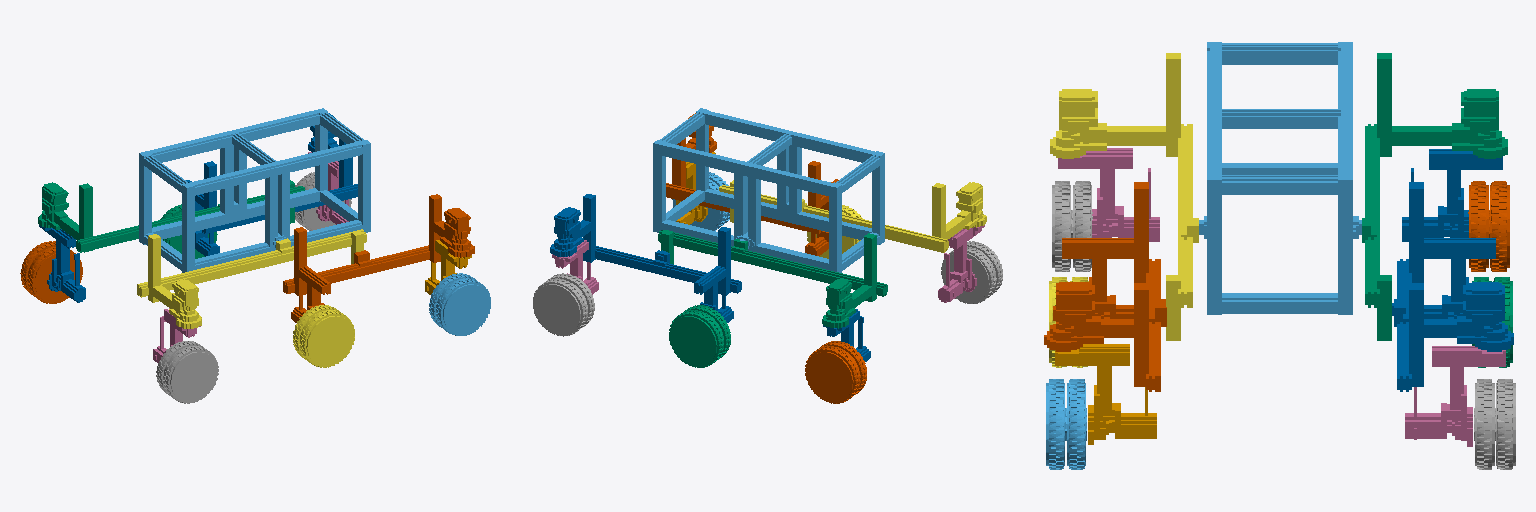
URDF robot description (roverv1):
<?xml version="1.0" ?>
<!-- =================================================================================== -->
<!-- |    This document was autogenerated by xacro from model.xacro                    | -->
<!-- |    EDITING THIS FILE BY HAND IS NOT RECOMMENDED                                 | -->
<!-- =================================================================================== -->
<robot name="roverv1" xmlns:xacro="http://www.ros.org/wiki/xacro">
  <gazebo>
    <plugin filename="libgazebo_ros_control.so" name="gazebo_ros_control">
      <robotNamespace>/roverv1</robotNamespace>
    </plugin>
  </gazebo>
  <!--plugin name="p3d_base_controller" filename="libgazebo_ros_p3d.so">
  <alwaysOn>true</alwaysOn>
  <updateRate>30.0</updateRate>
  <bodyName>base</bodyName>
  <topicName>odom</topicName>
  <gaussianNoise>0.01</gaussianNoise>
  <frameName>world</frameName>
  <xyzOffsets>0 0 0</xyzOffsets>
  <rpyOffsets>0 0 0</rpyOffsets-->
  <link name="body_footprint"/>
  <gazebo reference="body_footprint">
    <turnGravityOff>false</turnGravityOff>
  </gazebo>
  <!--joint name="floating" type="floating">
    <origin rpy="0 0 0" xyz="0 0 0.3"/>
    <parent link="world"/>
    <child link="anker"/>
  </joint-->
  <joint name="fixed" type="fixed">
    <origin rpy="0 0 0" xyz="0 0 0.3"/>
    <parent link="body_footprint"/>
    <child link="body"/>
  </joint>
  <link name="body">
    <inertial>
      <mass value="5"/>
      <origin rpy="0  0  0" xyz="0 0 0.125"/>
      <inertia ixx="0.02050030" ixy="0" ixz="0" iyy="0.05700340" iyz="0" izz="0.05769180"/>
    </inertial>
    <collision>
      <origin rpy="0  0  0" xyz="0 0 0"/>
      <geometry>
        <mesh filename="package://roverv1/meshes/base.STL" scale="1 1 1"/>
      </geometry>
    </collision>
    <visual>
      <origin rpy="0  0  0" xyz="0 0 0"/>
      <geometry>
        <mesh filename="package://roverv1/meshes/base.STL" scale="1 1 1"/>
      </geometry>
    </visual>
  </link>
  <link name="Right_Rocker">
    <inertial>
      <mass value="0.5"/>
      <origin rpy="0  0  0" xyz="-0.10 0.11 0"/>
      <inertia ixx="0.00335" ixy="0" ixz="0" iyy="0.0224" iyz="0" izz="0.02345"/>
    </inertial>
    <collision>
      <origin rpy="0  0  0" xyz="0 0 0"/>
      <geometry>
        <mesh filename="package://roverv1/meshes/LLArm.STL" scale="1 1 1"/>
      </geometry>
    </collision>
    <visual>
      <origin rpy="0  0  0" xyz="0 0 0"/>
      <geometry>
        <mesh filename="package://roverv1/meshes/LLArm.STL" scale="1 1 1"/>
      </geometry>
    </visual>
  </link>
  <joint name="Right_Rocker_joint" type="revolute">
    <parent link="body"/>
    <child link="Right_Rocker"/>
    <origin rpy="0 0 0" xyz="0 0.136 0.03"/>
    <axis xyz="0 1 0"/>
    <limit effort="10" lower="-0.7853" upper="0.7853" velocity="20"/>
    <dynamics damping="1" friction="1"/>
  </joint>
  <link name="Left_Rocker">
    <inertial>
      <mass value="0.5"/>
      <origin rpy="0  0  0" xyz="-0.10 -0.11 0"/>
      <inertia ixx="0.00335" ixy="0" ixz="0" iyy="0.0224" iyz="0" izz="0.02345"/>
    </inertial>
    <collision>
      <origin rpy="0  0  0" xyz="0 0 0"/>
      <geometry>
        <mesh filename="package://roverv1/meshes/RLArm.STL" scale="1 1 1"/>
      </geometry>
    </collision>
    <visual>
      <origin rpy="0  0  0" xyz="0 0 0"/>
      <geometry>
        <mesh filename="package://roverv1/meshes/RLArm.STL" scale="1 1 1"/>
      </geometry>
    </visual>
  </link>
  <joint name="Left_Rocker_joint" type="revolute">
    <parent link="body"/>
    <child link="Left_Rocker"/>
    <origin rpy="0 0 0" xyz="0 -0.136 0.03"/>
    <axis xyz="0 1 0"/>
    <limit effort="10" lower="-0.7853" upper="0.7853" velocity="20"/>
    <dynamics damping="1" friction="1"/>
  </joint>
  <link name="Right_Bogie">
    <inertial>
      <mass value="0.6"/>
      <origin rpy="0  0  0" xyz="0 0.1 0"/>
      <inertia ixx="0.00457331" ixy="0" ixz="0" iyy="0.02697040" iyz="0" izz="0.02375490"/>
    </inertial>
    <collision>
      <origin rpy="0  0  0" xyz="0 0 0"/>
      <geometry>
        <mesh filename="package://roverv1/meshes/LSArm.STL" scale="1 1 1"/>
      </geometry>
    </collision>
    <visual>
      <origin rpy="0  0  0" xyz="0 0 0"/>
      <geometry>
        <mesh filename="package://roverv1/meshes/LSArm.STL" scale="1 1 1"/>
      </geometry>
    </visual>
  </link>
  <joint name="Right_Bogie_joint" type="revolute">
    <parent link="Right_Rocker"/>
    <child link="Right_Bogie"/>
    <origin rpy="0 0 0" xyz="0.2 0.054 -0.06"/>
    <axis xyz="0 1 0"/>
    <limit effort="1" lower="-0.7853" upper="0.7853" velocity="20"/>
    <dynamics damping="1" friction="1"/>
  </joint>
  <link name="Left_Bogie">
    <inertial>
      <mass value="0.6"/>
      <origin rpy="0  0  0" xyz="0 -0.1 0"/>
      <inertia ixx="0.00457331" ixy="0" ixz="0" iyy="0.02697040" iyz="0" izz="0.02375490"/>
    </inertial>
    <collision>
      <origin rpy="0  0  0" xyz="0 0 0"/>
      <geometry>
        <mesh filename="package://roverv1/meshes/RSArm.STL" scale="1 1 1"/>
      </geometry>
    </collision>
    <visual>
      <origin rpy="0  0  0" xyz="0 0 0"/>
      <geometry>
        <mesh filename="package://roverv1/meshes/RSArm.STL" scale="1 1 1"/>
      </geometry>
    </visual>
  </link>
  <joint name="Left_Bogie_joint" type="revolute">
    <parent link="Left_Rocker"/>
    <child link="Left_Bogie"/>
    <origin rpy="0 0 0" xyz="0.2 -0.054 -0.06"/>
    <axis xyz="0 1 0"/>
    <limit effort="1" lower="-0.7853" upper="0.7853" velocity="20"/>
    <dynamics damping="1" friction="1"/>
  </joint>
  <link name="Servo4">
    <inertial>
      <mass value="0.4"/>
      <origin rpy="0  0  0" xyz="0 -0.07 -0.08"/>
      <inertia ixx="0.00160383" ixy="0" ixz="0" iyy="0.00114480" iyz="0" izz="0.00053229"/>
    </inertial>
    <collision>
      <origin rpy="0  0  0" xyz="0 0 0"/>
      <geometry>
        <mesh filename="package://roverv1/meshes/StWh1.STL" scale="1 1 1"/>
      </geometry>
    </collision>
    <visual>
      <origin rpy="0  0  0" xyz="0 0 0"/>
      <geometry>
        <mesh filename="package://roverv1/meshes/StWh1.STL" scale="1 1 1"/>
      </geometry>
    </visual>
  </link>
  <joint name="Servo4_joint" type="revolute">
    <parent link="Right_Bogie"/>
    <child link="Servo4"/>
    <origin rpy="0 0 0" xyz="0.2 0.165 0.03"/>
    <axis xyz="0 0 1"/>
    <limit effort="15" lower="-1.5708" upper="1.5708" velocity="0.2"/>
    <dynamics damping="1" friction="5"/>
  </joint>
  <link name="Wheel6">
    <inertial>
      <mass value="0.4"/>
      <origin rpy="0  0  0" xyz="0 0.04 0"/>
      <inertia ixx="0.000696" ixy="0" ixz="0" iyy="0.001044" iyz="0" izz="0.000696"/>
    </inertial>
    <collision>
      <origin rpy="0  0  0" xyz="0 0 0"/>
      <geometry>
        <mesh filename="package://roverv1/meshes/Wheel.STL" scale="1 1 1"/>
      </geometry>
    </collision>
    <visual>
      <origin rpy="0  0  0" xyz="0 0 0"/>
      <geometry>
        <mesh filename="package://roverv1/meshes/Wheel.STL" scale="1 1 1"/>
      </geometry>
    </visual>
  </link>
  <joint name="Motor6_joint" type="continuous">
    <parent link="Servo4"/>
    <child link="Wheel6"/>
    <origin rpy="0 0 0" xyz="0 -0.03 -0.142"/>
    <axis xyz="0 1 0"/>
    <limit effort="30" velocity="3"/>
    <dynamics damping="1" friction="5"/>
  </joint>
  <link name="Servo3">
    <inertial>
      <mass value="0.4"/>
      <origin rpy="0  0  0" xyz="0 -0.07 -0.08"/>
      <inertia ixx="0.00160383" ixy="0" ixz="0" iyy="0.00114480" iyz="0" izz="0.00053229"/>
    </inertial>
    <collision>
      <origin rpy="0  0  0" xyz="0 0 0"/>
      <geometry>
        <mesh filename="package://roverv1/meshes/StWh1.STL" scale="1 1 1"/>
      </geometry>
    </collision>
    <visual>
      <origin rpy="0  0  0" xyz="0 0 0"/>
      <geometry>
        <mesh filename="package://roverv1/meshes/StWh1.STL" scale="1 1 1"/>
      </geometry>
    </visual>
  </link>
  <joint name="Servo3_joint" type="revolute">
    <parent link="Left_Bogie"/>
    <child link="Servo3"/>
    <origin rpy="0 0 3.14159" xyz="0.2 -0.165 0.03"/>
    <axis xyz="0 0 1"/>
    <limit effort="15" lower="-1.5708" upper="1.5708" velocity="0.2"/>
    <dynamics damping="1" friction="5"/>
  </joint>
  <link name="Wheel5">
    <inertial>
      <mass value="0.4"/>
      <origin rpy="0  0  0" xyz="0 0.04 0"/>
      <inertia ixx="0.000696" ixy="0" ixz="0" iyy="0.001044" iyz="0" izz="0.000696"/>
    </inertial>
    <collision>
      <origin rpy="0  0  0" xyz="0 0 0"/>
      <geometry>
        <mesh filename="package://roverv1/meshes/Wheel.STL" scale="1 1 1"/>
      </geometry>
    </collision>
    <visual>
      <origin rpy="0  0  0" xyz="0 0 0"/>
      <geometry>
        <mesh filename="package://roverv1/meshes/Wheel.STL" scale="1 1 1"/>
      </geometry>
    </visual>
  </link>
  <joint name="Motor5_joint" type="continuous">
    <parent link="Servo3"/>
    <child link="Wheel5"/>
    <origin rpy="0 0 0" xyz="0 -0.03 -0.142"/>
    <axis xyz="0 1 0"/>
    <limit effort="30" velocity="3"/>
    <dynamics damping="1" friction="5"/>
  </joint>
  <link name="Wheel4">
    <inertial>
      <mass value="0.4"/>
      <origin rpy="0  0  0" xyz="0 0.04 0"/>
      <inertia ixx="0.000696" ixy="0" ixz="0" iyy="0.001044" iyz="0" izz="0.000696"/>
    </inertial>
    <collision>
      <origin rpy="0  0  0" xyz="0 0 0"/>
      <geometry>
        <mesh filename="package://roverv1/meshes/Wheel.STL" scale="1 1 1"/>
      </geometry>
    </collision>
    <visual>
      <origin rpy="0  0  0" xyz="0 0 0"/>
      <geometry>
        <mesh filename="package://roverv1/meshes/Wheel.STL" scale="1 1 1"/>
      </geometry>
    </visual>
  </link>
  <joint name="Motor4_joint" type="continuous">
    <parent link="Right_Bogie"/>
    <child link="Wheel4"/>
    <origin rpy="0 0 0" xyz="-0.200 0.130 -0.110"/>
    <axis xyz="0 1 0"/>
    <limit effort="30" velocity="3"/>
    <dynamics damping="1" friction="5"/>
  </joint>
  <link name="Wheel3">
    <inertial>
      <mass value="0.4"/>
      <origin rpy="0  0  0" xyz="0 0.04 0"/>
      <inertia ixx="0.000696" ixy="0" ixz="0" iyy="0.001044" iyz="0" izz="0.000696"/>
    </inertial>
    <collision>
      <origin rpy="0  0  0" xyz="0 0 0"/>
      <geometry>
        <mesh filename="package://roverv1/meshes/Wheel.STL" scale="1 1 1"/>
      </geometry>
    </collision>
    <visual>
      <origin rpy="0  0  0" xyz="0 0 0"/>
      <geometry>
        <mesh filename="package://roverv1/meshes/Wheel.STL" scale="1 1 1"/>
      </geometry>
    </visual>
  </link>
  <joint name="Motor3_joint" type="continuous">
    <parent link="Left_Bogie"/>
    <child link="Wheel3"/>
    <origin rpy="0 0 3.14159" xyz="-0.200 -0.130 -0.110"/>
    <axis xyz="0 1 0"/>
    <limit effort="30" velocity="3"/>
    <dynamics damping="1" friction="5"/>
  </joint>
  <link name="Servo2">
    <inertial>
      <mass value="0.4"/>
      <origin rpy="0  0  0" xyz="0 -0.07 -0.08"/>
      <inertia ixx="0.00160383" ixy="0" ixz="0" iyy="0.00114480" iyz="0" izz="0.00053229"/>
    </inertial>
    <collision>
      <origin rpy="0  0  0" xyz="0 0 0"/>
      <geometry>
        <mesh filename="package://roverv1/meshes/StWh1.STL" scale="1 1 1"/>
      </geometry>
    </collision>
    <visual>
      <origin rpy="0  0  0" xyz="0 0 0"/>
      <geometry>
        <mesh filename="package://roverv1/meshes/StWh1.STL" scale="1 1 1"/>
      </geometry>
    </visual>
  </link>
  <joint name="Servo2_joint" type="revolute">
    <parent link="Right_Rocker"/>
    <child link="Servo2"/>
    <origin rpy="0 0 0" xyz="-0.400 0.214 -0.04"/>
    <axis xyz="0 0 1"/>
    <limit effort="15" lower="-1.5708" upper="1.5708" velocity="0.2"/>
    <dynamics damping="1" friction="5"/>
  </joint>
  <link name="Wheel2">
    <inertial>
      <mass value="0.4"/>
      <origin rpy="0  0  0" xyz="0 0.04 0"/>
      <inertia ixx="0.000696" ixy="0" ixz="0" iyy="0.001044" iyz="0" izz="0.000696"/>
    </inertial>
    <collision>
      <origin rpy="0  0  0" xyz="0 0 0"/>
      <geometry>
        <mesh filename="package://roverv1/meshes/Wheel.STL" scale="1 1 1"/>
      </geometry>
    </collision>
    <visual>
      <origin rpy="0  0  0" xyz="0 0 0"/>
      <geometry>
        <mesh filename="package://roverv1/meshes/Wheel.STL" scale="1 1 1"/>
      </geometry>
    </visual>
  </link>
  <joint name="Motor2_joint" type="continuous">
    <parent link="Servo2"/>
    <child link="Wheel2"/>
    <origin rpy="0 0 0" xyz="0 -0.035 -0.140"/>
    <axis xyz="0 1 0"/>
    <limit effort="30" velocity="3"/>
    <dynamics damping="1" friction="5"/>
  </joint>
  <link name="Servo1">
    <inertial>
      <mass value="0.4"/>
      <origin rpy="0  0  0" xyz="0 -0.07 -0.08"/>
      <inertia ixx="0.00160383" ixy="0" ixz="0" iyy="0.00114480" iyz="0" izz="0.00053229"/>
    </inertial>
    <collision>
      <origin rpy="0  0  0" xyz="0 0 0"/>
      <geometry>
        <mesh filename="package://roverv1/meshes/StWh1.STL" scale="1 1 1"/>
      </geometry>
    </collision>
    <visual>
      <origin rpy="0  0  0" xyz="0 0 0"/>
      <geometry>
        <mesh filename="package://roverv1/meshes/StWh1.STL" scale="1 1 1"/>
      </geometry>
    </visual>
  </link>
  <joint name="Servo1_joint" type="revolute">
    <parent link="Left_Rocker"/>
    <child link="Servo1"/>
    <origin rpy="0 0 3.14159" xyz="-0.400 -0.214 -0.04"/>
    <axis xyz="0 0 1"/>
    <limit effort="15" lower="-1.5708" upper="1.5708" velocity="0.2"/>
    <dynamics damping="1" friction="5"/>
  </joint>
  <link name="Wheel1">
    <inertial>
      <mass value="0.4"/>
      <origin rpy="0  0  0" xyz="0 0.04 0"/>
      <inertia ixx="0.000696" ixy="0" ixz="0" iyy="0.001044" iyz="0" izz="0.000696"/>
    </inertial>
    <collision>
      <origin rpy="0  0  0" xyz="0 0 0"/>
      <geometry>
        <mesh filename="package://roverv1/meshes/Wheel.STL" scale="1 1 1"/>
      </geometry>
    </collision>
    <visual>
      <origin rpy="0  0  0" xyz="0 0 0"/>
      <geometry>
        <mesh filename="package://roverv1/meshes/Wheel.STL" scale="1 1 1"/>
      </geometry>
    </visual>
  </link>
  <joint name="Motor1_joint" type="continuous">
    <parent link="Servo1"/>
    <child link="Wheel1"/>
    <origin rpy="0 0 0" xyz="0 -0.035 -0.140"/>
    <axis xyz="0 1 0"/>
    <limit effort="30" velocity="3"/>
    <dynamics damping="1" friction="5"/>
  </joint>
  <transmission name="Right_Rocker_tran">
    <type>transmission_interface/SimpleTransmission</type>
    <joint name="Right_Rocker_joint">
      <hardwareInterface>hardware_interface/EffortJointInterface</hardwareInterface>
    </joint>
    <actuator name="Right_Rocker_motor">
      <hardwareInterface>EffortJointInterface</hardwareInterface>
      <mechanicalReduction>1</mechanicalReduction>
    </actuator>
  </transmission>
  <transmission name="Left_Rocker_tran">
    <type>transmission_interface/SimpleTransmission</type>
    <joint name="Left_Rocker_joint">
      <hardwareInterface>hardware_interface/EffortJointInterface</hardwareInterface>
    </joint>
    <actuator name="Left_Rocker_motor">
      <hardwareInterface>EffortJointInterface</hardwareInterface>
      <mechanicalReduction>1</mechanicalReduction>
    </actuator>
  </transmission>
  <transmission name="Right_Bogie_tran">
    <type>transmission_interface/SimpleTransmission</type>
    <joint name="Right_Bogie_joint">
      <hardwareInterface>hardware_interface/EffortJointInterface</hardwareInterface>
    </joint>
    <actuator name="Right_Bogie_motor">
      <hardwareInterface>EffortJointInterface</hardwareInterface>
      <mechanicalReduction>1</mechanicalReduction>
    </actuator>
  </transmission>
  <transmission name="Left_Bogie_tran">
    <type>transmission_interface/SimpleTransmission</type>
    <joint name="Left_Bogie_joint">
      <hardwareInterface>hardware_interface/EffortJointInterface</hardwareInterface>
    </joint>
    <actuator name="Left_Bogie_motor">
      <hardwareInterface>EffortJointInterface</hardwareInterface>
      <mechanicalReduction>1</mechanicalReduction>
    </actuator>
  </transmission>
  <transmission name="Servo4_tran">
    <type>transmission_interface/SimpleTransmission</type>
    <joint name="Servo4_joint">
      <hardwareInterface>hardware_interface/EffortJointInterface</hardwareInterface>
    </joint>
    <actuator name="Servo4_motor">
      <hardwareInterface>EffortJointInterface</hardwareInterface>
      <mechanicalReduction>1</mechanicalReduction>
    </actuator>
  </transmission>
  <transmission name="Servo3_tran">
    <type>transmission_interface/SimpleTransmission</type>
    <joint name="Servo3_joint">
      <hardwareInterface>hardware_interface/EffortJointInterface</hardwareInterface>
    </joint>
    <actuator name="Servo3_motor">
      <hardwareInterface>EffortJointInterface</hardwareInterface>
      <mechanicalReduction>1</mechanicalReduction>
    </actuator>
  </transmission>
  <transmission name="Servo2_tran">
    <type>transmission_interface/SimpleTransmission</type>
    <joint name="Servo2_joint">
      <hardwareInterface>hardware_interface/EffortJointInterface</hardwareInterface>
    </joint>
    <actuator name="Servo2_motor">
      <hardwareInterface>EffortJointInterface</hardwareInterface>
      <mechanicalReduction>1</mechanicalReduction>
    </actuator>
  </transmission>
  <transmission name="Servo1_tran">
    <type>transmission_interface/SimpleTransmission</type>
    <joint name="Servo1_joint">
      <hardwareInterface>hardware_interface/EffortJointInterface</hardwareInterface>
    </joint>
    <actuator name="Servo1_motor">
      <hardwareInterface>EffortJointInterface</hardwareInterface>
      <mechanicalReduction>1</mechanicalReduction>
    </actuator>
  </transmission>
  <transmission name="Motor6_tran">
    <type>transmission_interface/SimpleTransmission</type>
    <joint name="Motor6_joint">
      <hardwareInterface>hardware_interface/EffortJointInterface</hardwareInterface>
    </joint>
    <actuator name="Motor6_motor">
      <hardwareInterface>EffortJointInterface</hardwareInterface>
      <mechanicalReduction>1</mechanicalReduction>
    </actuator>
  </transmission>
  <transmission name="Motor5_tran">
    <type>transmission_interface/SimpleTransmission</type>
    <joint name="Motor5_joint">
      <hardwareInterface>hardware_interface/EffortJointInterface</hardwareInterface>
    </joint>
    <actuator name="Motor5_motor">
      <hardwareInterface>EffortJointInterface</hardwareInterface>
      <mechanicalReduction>1</mechanicalReduction>
    </actuator>
  </transmission>
  <transmission name="Motor4_tran">
    <type>transmission_interface/SimpleTransmission</type>
    <joint name="Motor4_joint">
      <hardwareInterface>hardware_interface/EffortJointInterface</hardwareInterface>
    </joint>
    <actuator name="Motor4_motor">
      <hardwareInterface>EffortJointInterface</hardwareInterface>
      <mechanicalReduction>1</mechanicalReduction>
    </actuator>
  </transmission>
  <transmission name="Motor3_tran">
    <type>transmission_interface/SimpleTransmission</type>
    <joint name="Motor3_joint">
      <hardwareInterface>hardware_interface/EffortJointInterface</hardwareInterface>
    </joint>
    <actuator name="Motor3_motor">
      <hardwareInterface>EffortJointInterface</hardwareInterface>
      <mechanicalReduction>1</mechanicalReduction>
    </actuator>
  </transmission>
  <transmission name="Motor2_tran">
    <type>transmission_interface/SimpleTransmission</type>
    <joint name="Motor2_joint">
      <hardwareInterface>hardware_interface/EffortJointInterface</hardwareInterface>
    </joint>
    <actuator name="Motor2_motor">
      <hardwareInterface>EffortJointInterface</hardwareInterface>
      <mechanicalReduction>1</mechanicalReduction>
    </actuator>
  </transmission>
  <transmission name="Motor1_tran">
    <type>transmission_interface/SimpleTransmission</type>
    <joint name="Motor1_joint">
      <hardwareInterface>hardware_interface/EffortJointInterface</hardwareInterface>
    </joint>
    <actuator name="Motor1_motor">
      <hardwareInterface>EffortJointInterface</hardwareInterface>
      <mechanicalReduction>1</mechanicalReduction>
    </actuator>
  </transmission>
  <gazebo reference="Wheel1">
    <mu1 value="5"/>
    <!-- Columb friction coefficient in fdir1 direction -->
    <mu2 value="1"/>
    <!-- Columb friction in perpendicular direction to fdir1 -->
    <kp value="2000000"/>
    <!-- contact stiffness -->
    <kd value="1.0"/>
    <!-- contact damping -->
    <material>Gazebo/Grey</material>
  </gazebo>
  <gazebo reference="Wheel2">
    <mu1 value="5"/>
    <!-- Columb friction coefficient in fdir1 direction -->
    <mu2 value="1"/>
    <!-- Columb friction in perpendicular direction to fdir1 -->
    <kp value="2000000"/>
    <!-- contact stiffness -->
    <kd value="1.0"/>
    <!-- contact damping -->
    <material>Gazebo/Grey</material>
  </gazebo>
  <gazebo reference="Wheel3">
    <mu1 value="5"/>
    <!-- Columb friction coefficient in fdir1 direction -->
    <mu2 value="1"/>
    <!-- Columb friction in perpendicular direction to fdir1 -->
    <kp value="2000000"/>
    <!-- contact stiffness -->
    <kd value="1.0"/>
    <!-- contact damping -->
    <material>Gazebo/Grey</material>
  </gazebo>
  <gazebo reference="Wheel4">
    <mu1 value="5"/>
    <!-- Columb friction coefficient in fdir1 direction -->
    <mu2 value="1"/>
    <!-- Columb friction in perpendicular direction to fdir1 -->
    <kp value="2000000"/>
    <!-- contact stiffness -->
    <kd value="1.0"/>
    <!-- contact damping -->
    <material>Gazebo/Grey</material>
  </gazebo>
  <gazebo reference="Wheel5">
    <mu1 value="5"/>
    <!-- Columb friction coefficient in fdir1 direction -->
    <mu2 value="1"/>
    <!-- Columb friction in perpendicular direction to fdir1 -->
    <kp value="2000000"/>
    <!-- contact stiffness -->
    <kd value="1.0"/>
    <!-- contact damping -->
    <material>Gazebo/Grey</material>
  </gazebo>
  <gazebo reference="Wheel6">
    <mu1 value="5"/>
    <!-- Columb friction coefficient in fdir1 direction -->
    <mu2 value="1"/>
    <!-- Columb friction in perpendicular direction to fdir1 -->
    <kp value="2000000"/>
    <!-- contact stiffness -->
    <kd value="1.0"/>
    <!-- contact damping -->
    <material>Gazebo/Grey</material>
  </gazebo>
</robot>

--- Facts derived from the render (not from the file) ---
Views: 3 orthographic renders of the robot side by side, from view 1: azimuth 30°, elevation 25°; view 2: azimuth 150°, elevation 25°; view 3: azimuth 270°, elevation 25°.
Model roverv1 with 16 links and 15 joints (8 revolute, 6 continuous, 1 fixed), rooted at body_footprint, posed all joints at 0.
Links seen in each view (by area): view 1: body, Left_Bogie, Left_Rocker, Right_Rocker, Wheel1, Wheel5, Wheel3, Right_Bogie, Wheel2, Servo2, Servo3, Wheel6 (+2 smaller); view 2: body, Right_Bogie, Right_Rocker, Left_Rocker, Wheel2, Wheel4, Wheel6, Left_Bogie, Wheel1, Servo1, Servo4, Servo2 (+2 smaller); view 3: body, Left_Bogie, Right_Bogie, Left_Rocker, Right_Rocker, Servo3, Servo4, Wheel6, Wheel5, Servo1, Servo2, Wheel2 (+3 smaller).
Boxes of the visible links, x1=… form: body: x1=139, y1=108, x2=370, y2=272; Left_Bogie: x1=283, y1=194, x2=474, y2=322; Left_Rocker: x1=137, y1=229, x2=366, y2=328; Right_Rocker: x1=38, y1=180, x2=304, y2=252; Wheel1: x1=156, y1=341, x2=218, y2=403; Wheel5: x1=429, y1=273, x2=490, y2=335; Wheel3: x1=293, y1=305, x2=354, y2=367; Right_Bogie: x1=186, y1=113, x2=357, y2=256; Wheel2: x1=20, y1=241, x2=82, y2=303; Servo2: x1=39, y1=225, x2=85, y2=302; Servo3: x1=425, y1=240, x2=471, y2=294; Wheel6: x1=295, y1=172, x2=351, y2=230; body: x1=653, y1=108, x2=884, y2=272; Right_Bogie: x1=550, y1=194, x2=741, y2=322; Right_Rocker: x1=658, y1=230, x2=887, y2=328; Left_Rocker: x1=719, y1=180, x2=986, y2=252; Wheel2: x1=805, y1=341, x2=866, y2=403; Wheel4: x1=669, y1=305, x2=730, y2=367; Wheel6: x1=533, y1=273, x2=594, y2=336; Left_Bogie: x1=666, y1=113, x2=838, y2=255; Wheel1: x1=941, y1=241, x2=1002, y2=303; Servo1: x1=938, y1=225, x2=984, y2=302; Servo4: x1=552, y1=240, x2=598, y2=294; Servo2: x1=823, y1=309, x2=870, y2=361; body: x1=1199, y1=42, x2=1361, y2=314; Left_Bogie: x1=1044, y1=182, x2=1166, y2=391; Right_Bogie: x1=1392, y1=182, x2=1513, y2=391; Left_Rocker: x1=1050, y1=53, x2=1198, y2=340; Right_Rocker: x1=1362, y1=53, x2=1507, y2=340; Servo3: x1=1055, y1=344, x2=1156, y2=444; Servo4: x1=1405, y1=346, x2=1505, y2=446; Wheel6: x1=1474, y1=379, x2=1515, y2=469; Wheel5: x1=1046, y1=379, x2=1086, y2=469; Servo1: x1=1058, y1=148, x2=1159, y2=241; Servo2: x1=1402, y1=149, x2=1502, y2=241; Wheel2: x1=1468, y1=181, x2=1509, y2=271.
Bounding box of the posed robot: 0.9527 × 0.7879 × 0.476 m (x, y, z).
15 mesh visuals loaded from 7 distinct referenced files (7 binary STL).